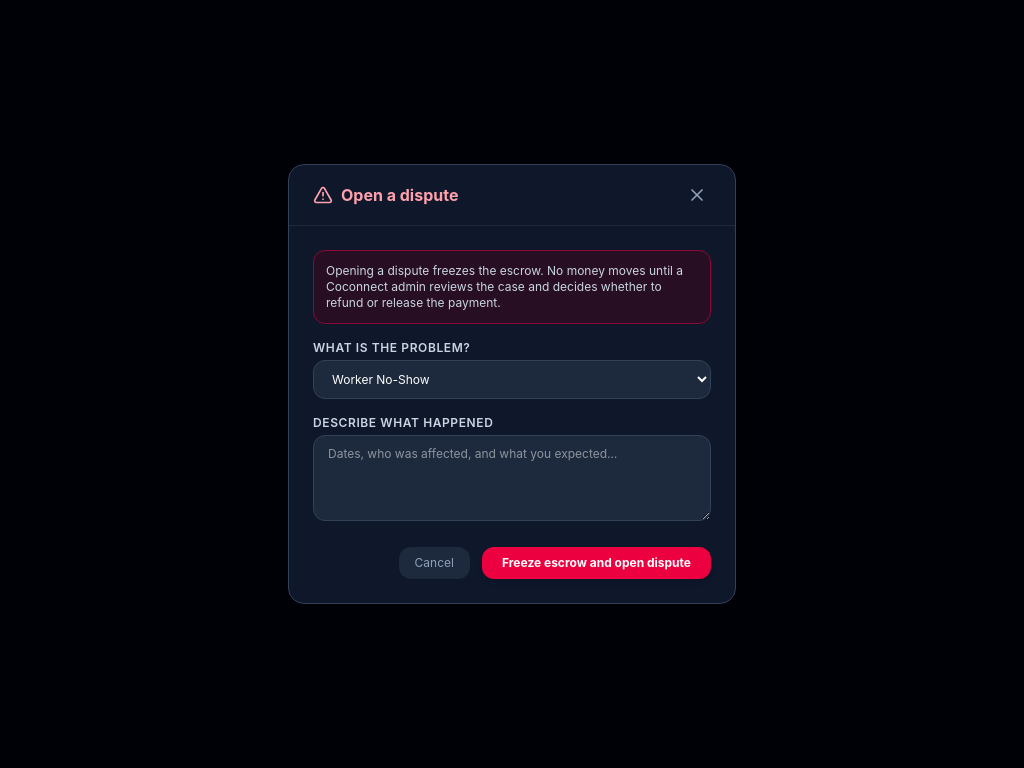
Test: OpenDisputeModal › refuses someone who is not on the job
In the text box with test id "dispute-description": (512, 478) [313,435,711,521], type "I was not paid what I was promised on site."
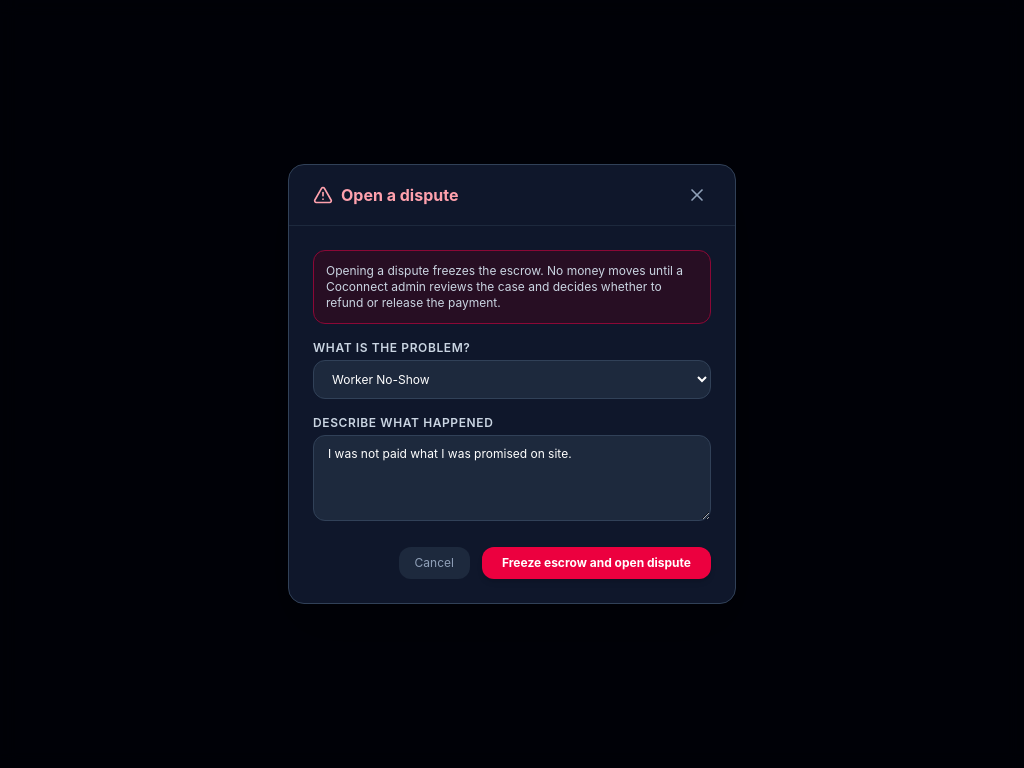
Click the button with test id "dispute-submit": (596, 563) [482,547,711,579]
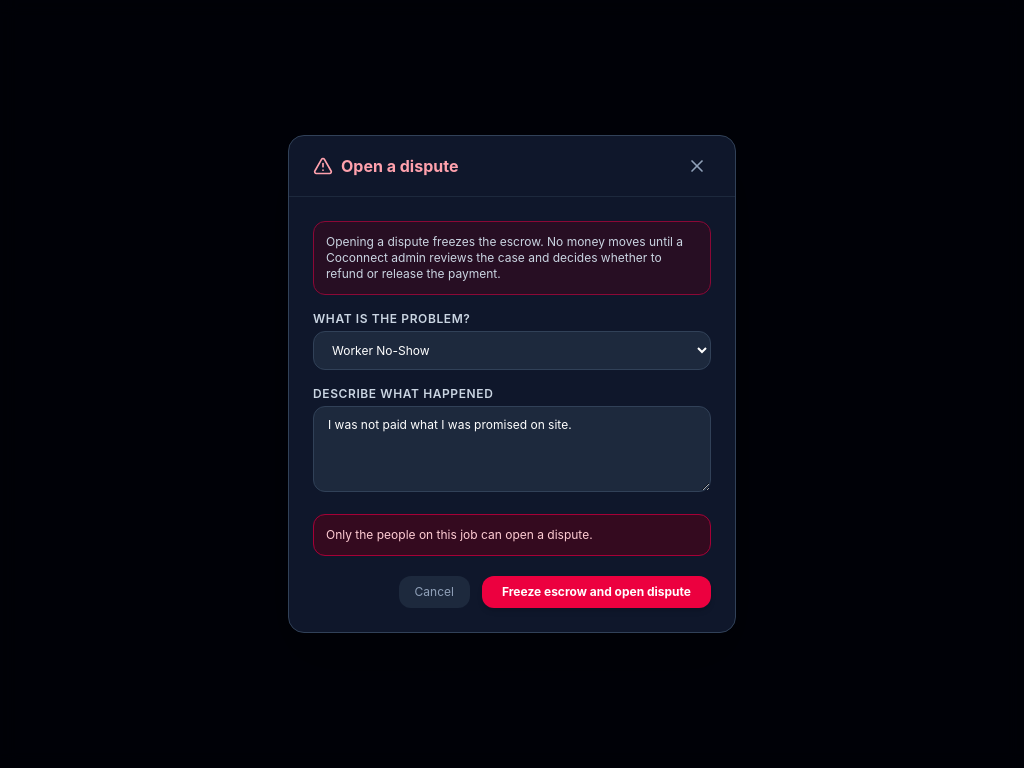
Result: the message reads "Only the people on this job can open a dispute." at [326,527,593,542]
